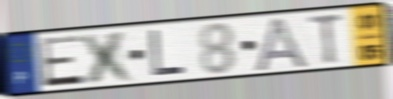8: (196, 19, 238, 76)
A: (251, 15, 311, 74)
E: (37, 33, 86, 89)
L: (148, 28, 187, 79)
T: (307, 11, 346, 66)
X: (78, 28, 138, 86)
